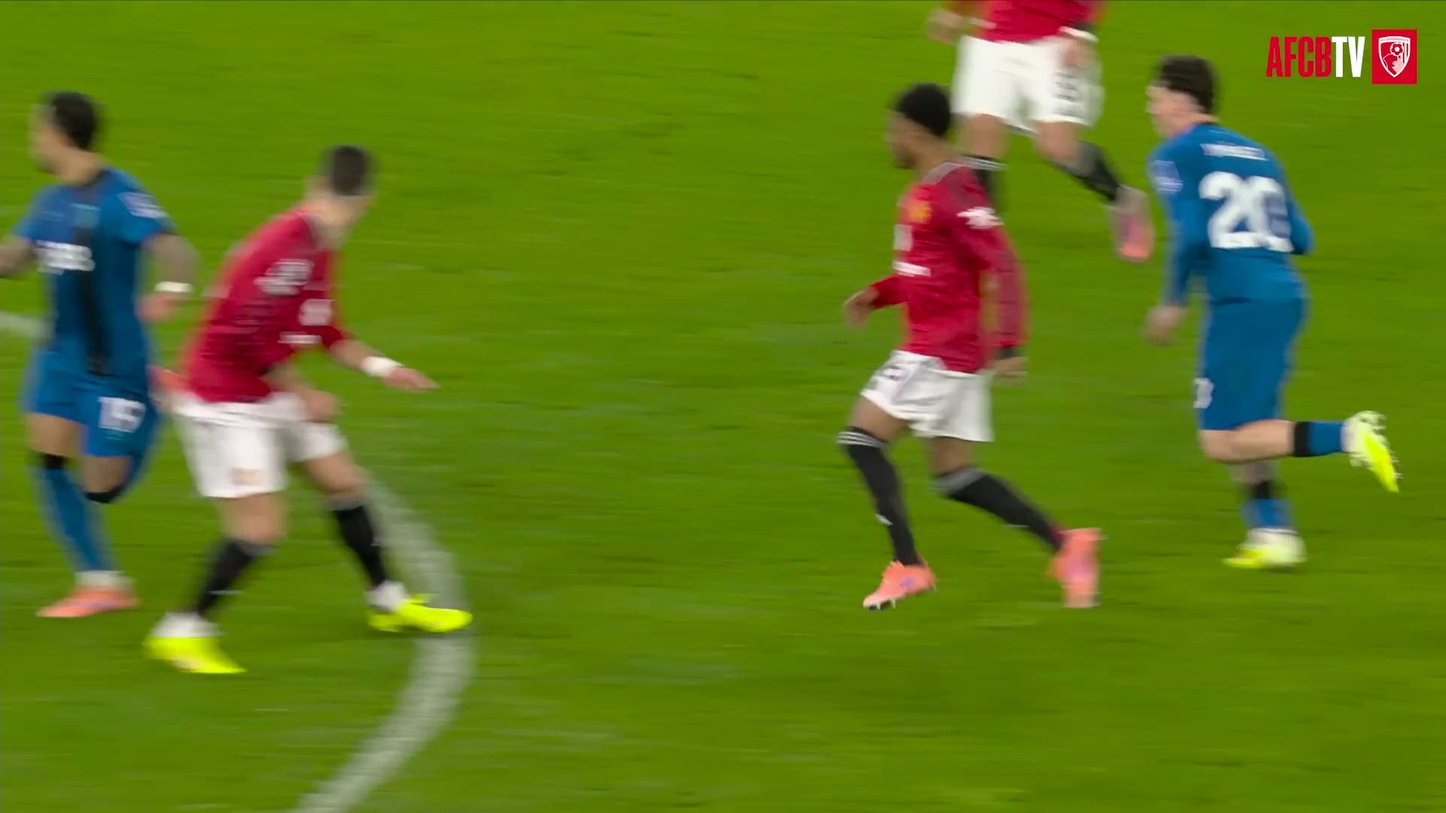player: (145, 146, 471, 673), (838, 84, 1097, 609), (1146, 56, 1398, 567), (0, 92, 197, 617), (929, 0, 1153, 261)
